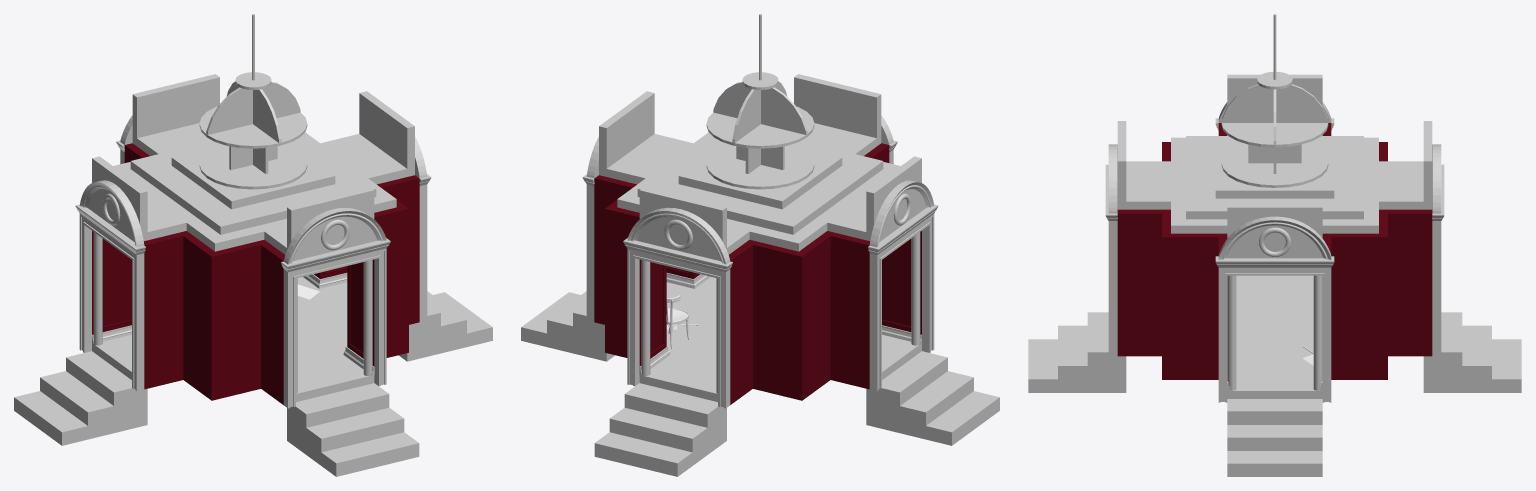
The model's file is monumentojusticavermelho.glb.
The picture shows the model from 3 angles, left to right: view 1: azimuth 30°, elevation 25°; view 2: azimuth 150°, elevation 25°; view 3: azimuth 270°, elevation 25°; orthographic projection.
Visible parts, largest first — view 1: Base.002, Tecto, Escadas, Base.003, Base, Circle.006, Abobada_01, Colunas Estreitas, Circle.002, Abobada_03, Circle.001, Base.004 (+3 smaller); view 2: Base.002, Tecto, Escadas, Base.003, Base, Circle.006, Abobada_01, Colunas Estreitas, Circle.002, Abobada_03, Circle.001, Base.004 (+4 smaller); view 3: Base.002, Tecto, Escadas, Base, Base.003, Circle.006, Circle.001, Abobada_01, Colunas Estreitas, Abobada_03, Plane.002, Abobada_03.001.
Part boxes in pixels (box(x1,y1,x2,y2)): Base.002: box(92, 143, 419, 404); Tecto: box(92, 74, 414, 254); Escadas: box(14, 291, 492, 476); Base.003: box(75, 140, 431, 408); Base: box(92, 277, 374, 401); Circle.006: box(79, 115, 427, 264); Abobada_01: box(199, 145, 307, 189); Colunas Estreitas: box(93, 232, 372, 393); Circle.002: box(206, 82, 300, 134); Abobada_03: box(199, 106, 307, 148); Circle.001: box(226, 81, 281, 143); Base.004: box(92, 273, 374, 375); Base.002: box(594, 143, 921, 404); Tecto: box(599, 74, 921, 254); Escadas: box(521, 291, 999, 476); Base.003: box(582, 140, 938, 408); Base: box(639, 277, 921, 401); Circle.006: box(586, 115, 934, 264); Abobada_01: box(706, 145, 814, 189); Colunas Estreitas: box(641, 232, 920, 393); Circle.002: box(713, 82, 807, 134); Abobada_03: box(706, 106, 814, 148); Circle.001: box(732, 81, 787, 143); Base.004: box(639, 273, 921, 375); Base.002: box(1117, 123, 1432, 379); Tecto: box(1117, 74, 1432, 237); Escadas: box(1028, 312, 1521, 476); Base: box(1227, 275, 1322, 398); Base.003: box(1105, 118, 1444, 402); Circle.006: box(1108, 102, 1441, 259); Circle.001: box(1221, 84, 1328, 122); Abobada_01: box(1221, 144, 1328, 187); Colunas Estreitas: box(1227, 275, 1322, 390); Abobada_03: box(1221, 123, 1328, 147); Plane.002: box(1248, 144, 1301, 163); Abobada_03.001: box(1257, 71, 1292, 89).
Bounding box in the file's own units: 8.3 × 6.65 × 8.3.
